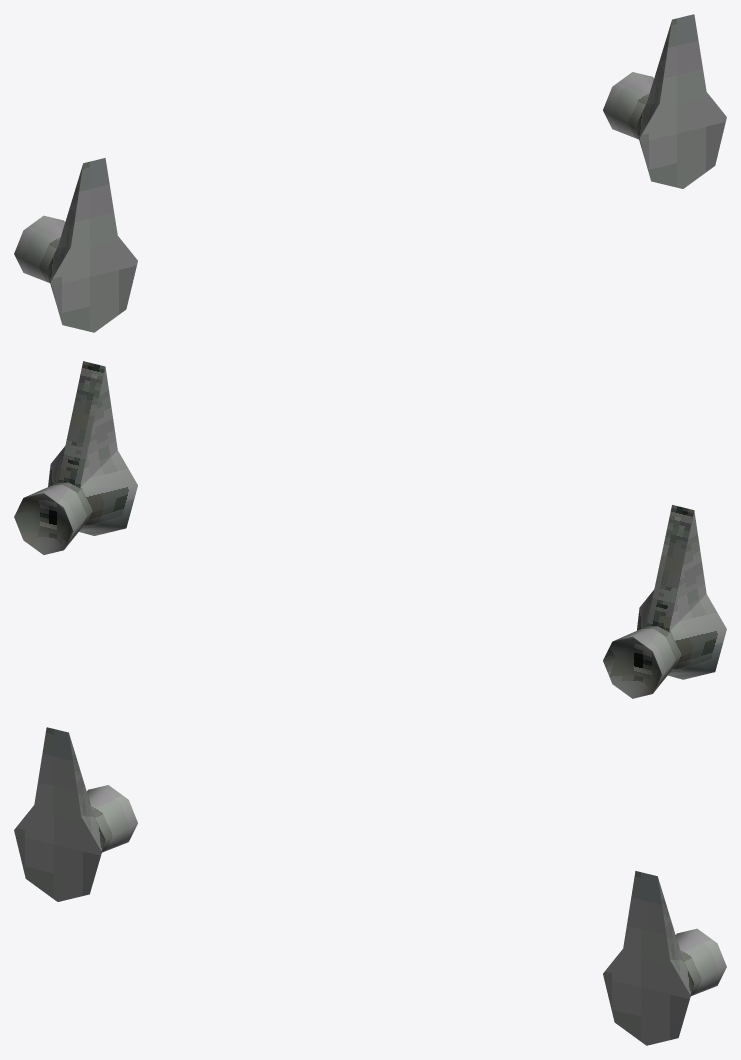
The model's file is kse_firespray_booster_s01_l1.fbx.
The picture shows the model from 3 angles, top to bottom: view 1: azimuth 30°, elevation 25°; view 2: azimuth 150°, elevation 25°; view 3: azimuth 330°, elevation 25°; orthographic projection.
Visible parts, largest first — view 1: mesh_node; view 2: mesh_node; view 3: mesh_node.
Boxes of the visible parts, x1=… form: mesh_node: x1=14, y1=14, x2=726, y2=332; mesh_node: x1=14, y1=361, x2=726, y2=698; mesh_node: x1=14, y1=727, x2=726, y2=1045.
Size of the model in its own units: 10.44 by 2.54 by 1.35.
